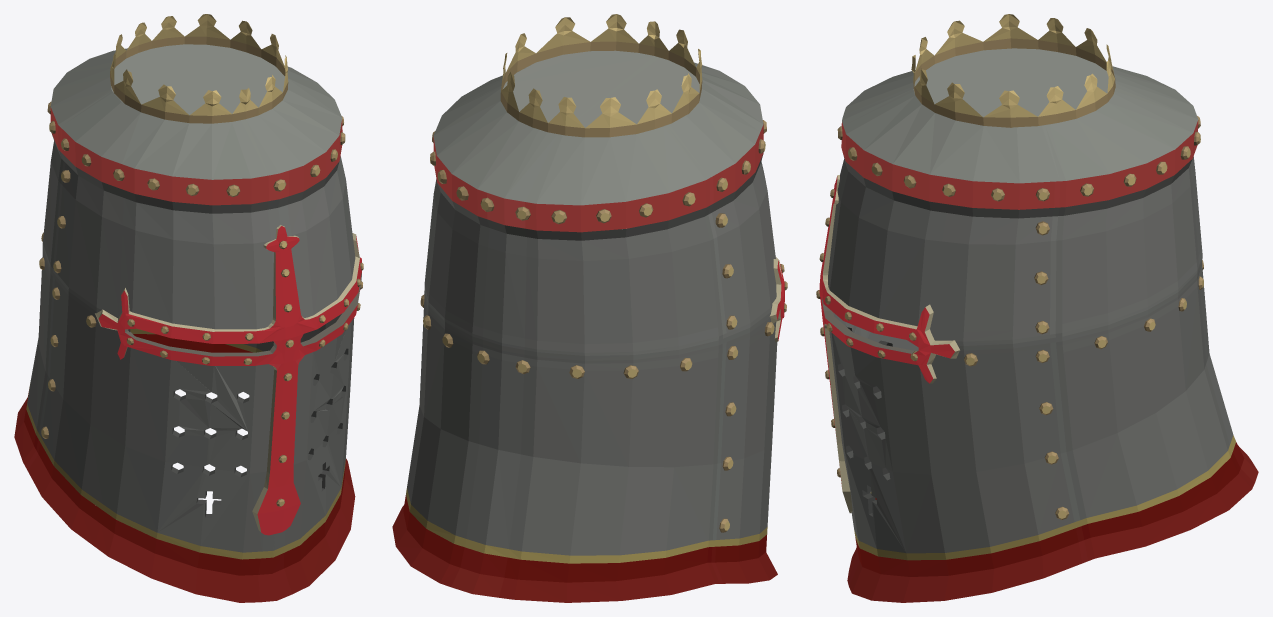
The model's file is bucketHelmetCrownFemale.glb.
3 views of the same model, side by side, from view 1: azimuth 30°, elevation 25°; view 2: azimuth 150°, elevation 25°; view 3: azimuth 270°, elevation 25° (orthographic). The views are drawn at different scales.
Parts seen in each view (by area): view 1: bucketHelmetCrown; view 2: bucketHelmetCrown; view 3: bucketHelmetCrown.
Part boxes in pixels (left/top/right/bottom): bucketHelmetCrown: left=14, top=14, right=363, bottom=602; bucketHelmetCrown: left=392, top=14, right=787, bottom=602; bucketHelmetCrown: left=816, top=14, right=1258, bottom=602.
Bounding box in the file's own units: 0.2844 × 0.4665 × 0.3539.
